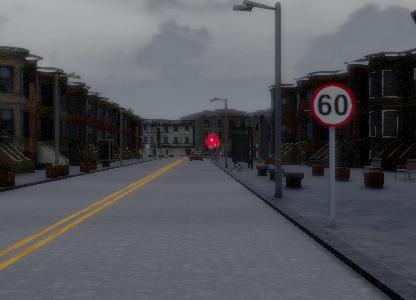Speed_60: (309, 79, 358, 129)
